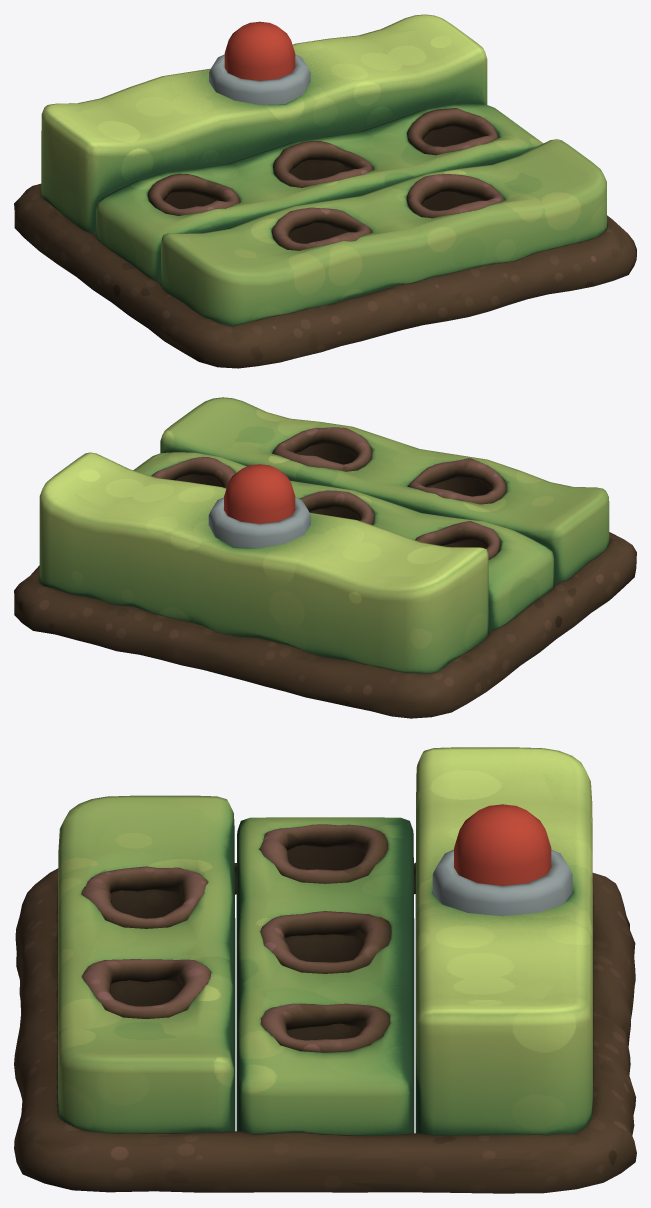
The model's file is Whack-a-Mole.fbx.
The picture shows the model from 3 angles, top to bottom: view 1: azimuth 30°, elevation 25°; view 2: azimuth 150°, elevation 25°; view 3: azimuth 270°, elevation 25°; orthographic projection. The views are drawn at different scales.
Parts seen in each view (by area): view 1: Ground, Lamp, Lamp_Base; view 2: Ground, Lamp, Lamp_Base; view 3: Ground, Lamp, Lamp_Base.
Boxes of the visible parts, box(x1,y1,x2,y2) form: Ground: box(14, 14, 636, 368); Lamp: box(224, 21, 295, 80); Lamp_Base: box(209, 54, 310, 104); Ground: box(14, 397, 636, 718); Lamp: box(224, 464, 295, 523); Lamp_Base: box(208, 497, 310, 547); Ground: box(14, 747, 636, 1193); Lamp: box(454, 804, 551, 885); Lamp_Base: box(432, 849, 572, 916).
Bounding box in the file's own units: 6.67 × 2.42 × 5.84.
3 materials, 1 textured.
